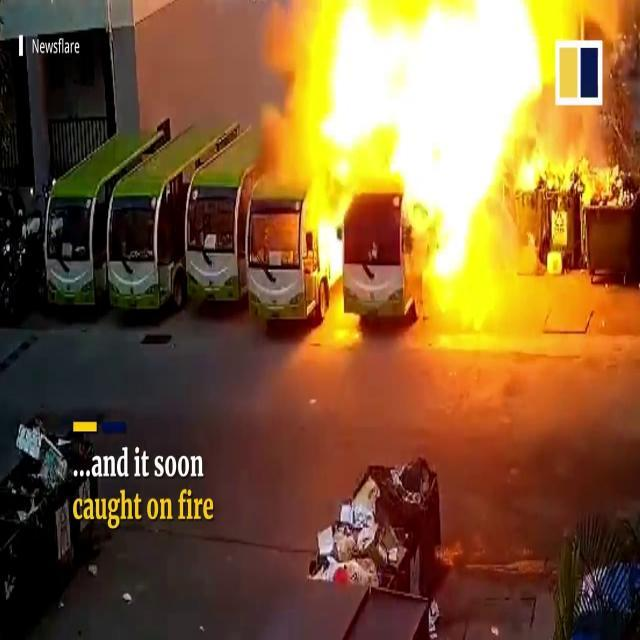Fire: (280, 1, 558, 343)
